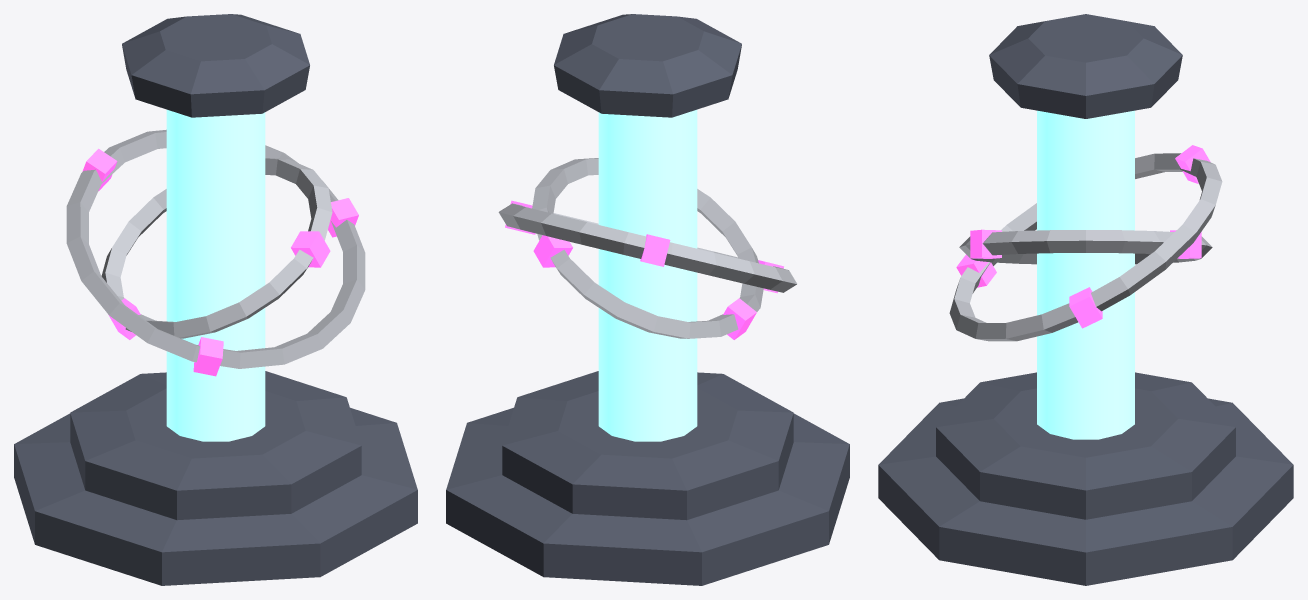
Rendered from sci-reactor.glb.
3 views of the same model, side by side, from view 1: azimuth 30°, elevation 25°; view 2: azimuth 150°, elevation 25°; view 3: azimuth 270°, elevation 25° (orthographic).
Parts seen in each view (by area): view 1: Reactor housing, Reactor column, Reactor ring A, Reactor ring B; view 2: Reactor housing, Reactor column, Reactor ring B, Reactor ring A; view 3: Reactor housing, Reactor column, Reactor ring A, Reactor ring B.
Part boxes in pixels (x1,y1,x2,y2): Reactor housing: [14, 14, 417, 585]; Reactor column: [166, 109, 265, 441]; Reactor ring A: [66, 129, 365, 376]; Reactor ring B: [101, 158, 332, 339]; Reactor housing: [446, 14, 849, 585]; Reactor column: [598, 109, 697, 441]; Reactor ring B: [532, 158, 763, 339]; Reactor ring A: [498, 200, 796, 293]; Reactor housing: [878, 14, 1293, 585]; Reactor column: [1037, 110, 1134, 439]; Reactor ring A: [949, 145, 1222, 341]; Reactor ring B: [959, 229, 1212, 264].
Bounding box in the file's own units: 1.8 × 2.2 × 1.8.
